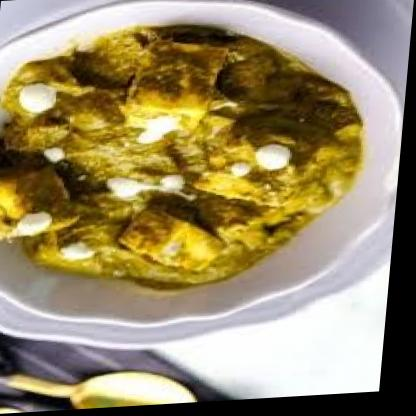palak_paneer: (0, 16, 374, 302)
